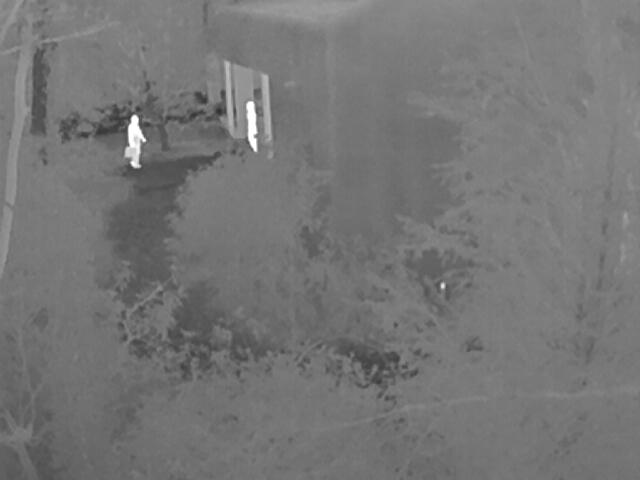person: (124, 113, 145, 168), (245, 100, 258, 152)
